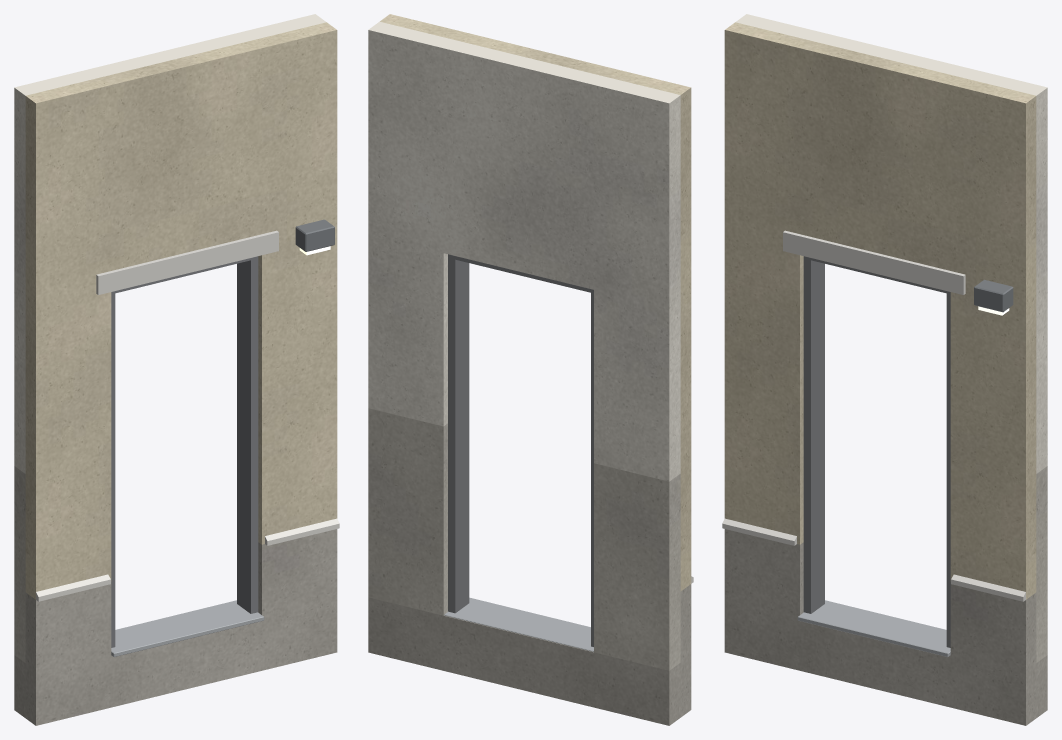
File: o_door_b.glb
3 views of the same model, side by side, from view 1: azimuth 30°, elevation 25°; view 2: azimuth 150°, elevation 25°; view 3: azimuth 330°, elevation 25° (orthographic).
Visible parts, largest first — view 1: o_door_b_render, o_door_b_concrete, o_door_b_frame, o_door_b_plaster, o_door_b_coping, o_door_b_steel, o_door_b_tile_a, o_door_b_steel_d; view 2: o_door_b_plaster, o_door_b_tile_a, o_door_b_concrete, o_door_b_frame, o_door_b_render, o_door_b_steel; view 3: o_door_b_render, o_door_b_concrete, o_door_b_frame, o_door_b_plaster, o_door_b_coping, o_door_b_steel, o_door_b_tile_a, o_door_b_steel_d.
Part boxes in pixels (x1,y1,x2,y2): o_door_b_render: (25,22,337,599); o_door_b_concrete: (14,529,337,725); o_door_b_frame: (111,256,258,647); o_door_b_plaster: (14,14,326,473); o_door_b_coping: (36,230,339,601); o_door_b_steel: (111,600,264,656); o_door_b_tile_a: (14,466,25,662); o_door_b_steel_d: (295,219,334,251); o_door_b_plaster: (368,21,680,481); o_door_b_tile_a: (368,408,680,670); o_door_b_concrete: (368,584,691,725); o_door_b_frame: (448,254,593,646); o_door_b_render: (380,14,691,591); o_door_b_steel: (444,597,593,651); o_door_b_render: (724,22,1036,599); o_door_b_concrete: (724,529,1047,725); o_door_b_frame: (803,256,950,647); o_door_b_plaster: (735,14,1047,473); o_door_b_coping: (722,230,1025,601); o_door_b_steel: (797,600,950,656); o_door_b_tile_a: (1036,466,1047,662); o_door_b_steel_d: (974,279,1013,312).
Bounding box in the file's own units: 2 × 3.95 × 0.37.
Materials: 9 (4 with a texture image).
